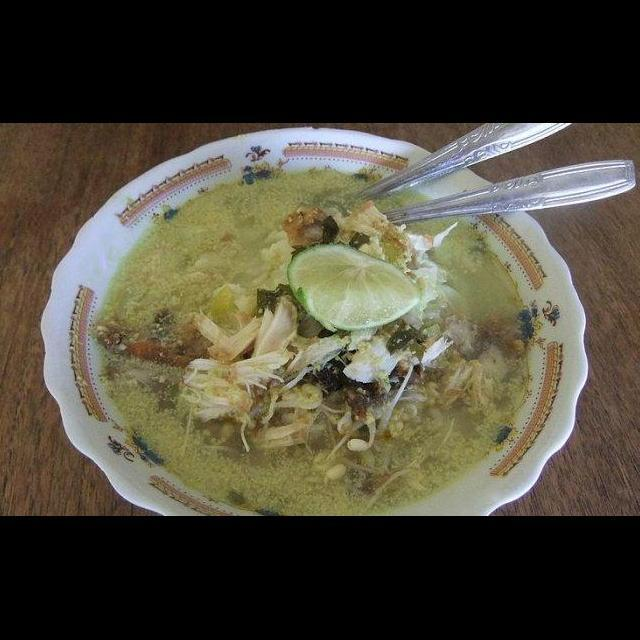Soto: (95, 152, 508, 497)
